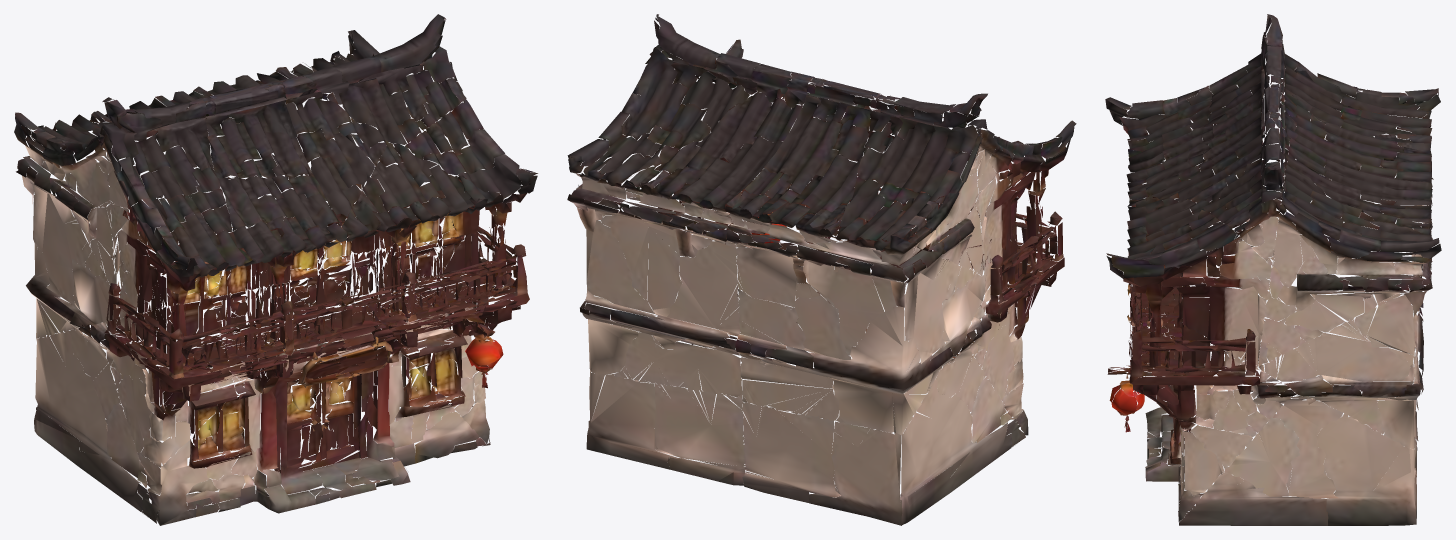
Rendered from house_g_20k.glb.
The picture shows the model from 3 angles, left to right: view 1: azimuth 30°, elevation 25°; view 2: azimuth 150°, elevation 25°; view 3: azimuth 270°, elevation 25°; orthographic projection. The views are drawn at different scales.
Parts seen in each view (by area): view 1: tripo_node_bb624d69-34ae-494c-9a8b-686c0e2e5d29; view 2: tripo_node_bb624d69-34ae-494c-9a8b-686c0e2e5d29; view 3: tripo_node_bb624d69-34ae-494c-9a8b-686c0e2e5d29.
Part boxes in pixels (x1,y1,x2,y2): tripo_node_bb624d69-34ae-494c-9a8b-686c0e2e5d29: [14, 14, 537, 525]; tripo_node_bb624d69-34ae-494c-9a8b-686c0e2e5d29: [567, 14, 1076, 525]; tripo_node_bb624d69-34ae-494c-9a8b-686c0e2e5d29: [1105, 14, 1441, 525].
Size of the model in its own units: 0.9365 by 0.9822 by 0.8272.
1 material, 1 textured.
